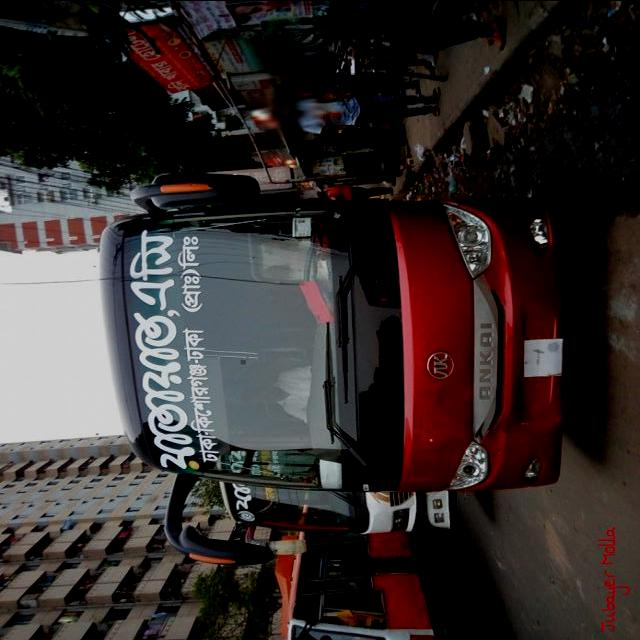bus: (100, 172, 566, 568)
